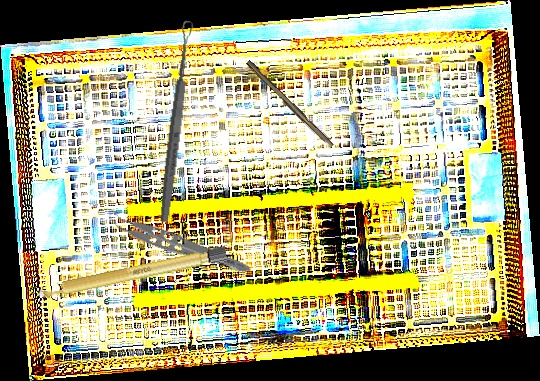Scalpel Handle: (35, 245, 228, 301), (243, 59, 336, 150)
Surgical Spoon: (157, 19, 196, 224)
Tissue Forceps: (104, 207, 256, 277)
